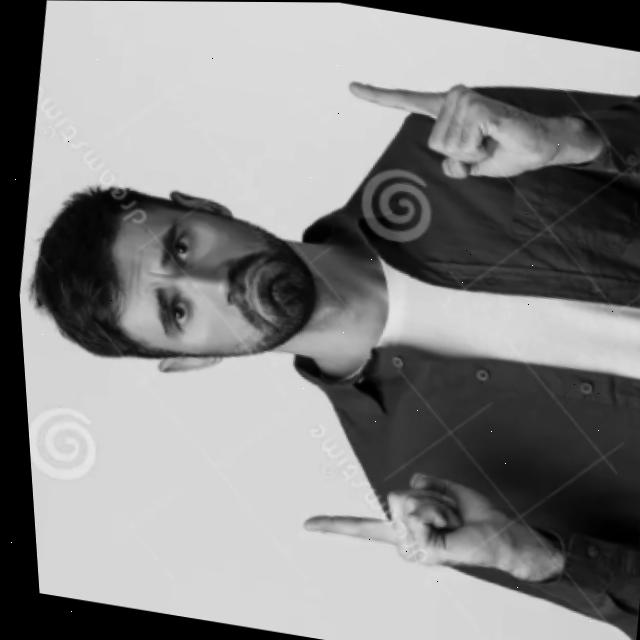sad: (48, 156, 346, 410)
